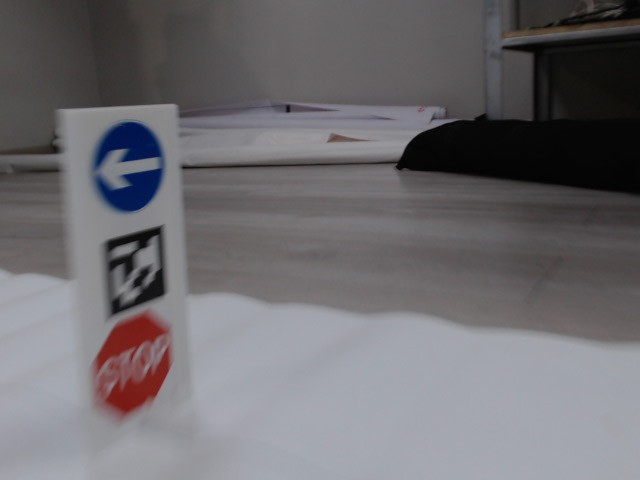Stop: (90, 314, 175, 413)
